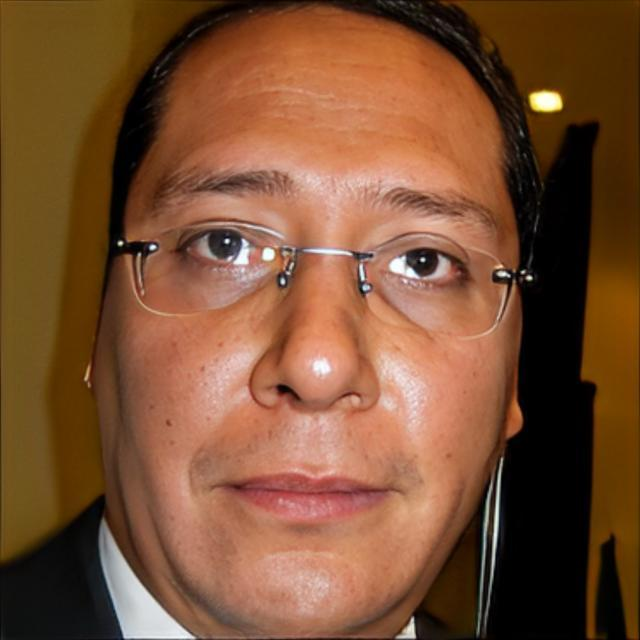content: (89, 0, 522, 640)
